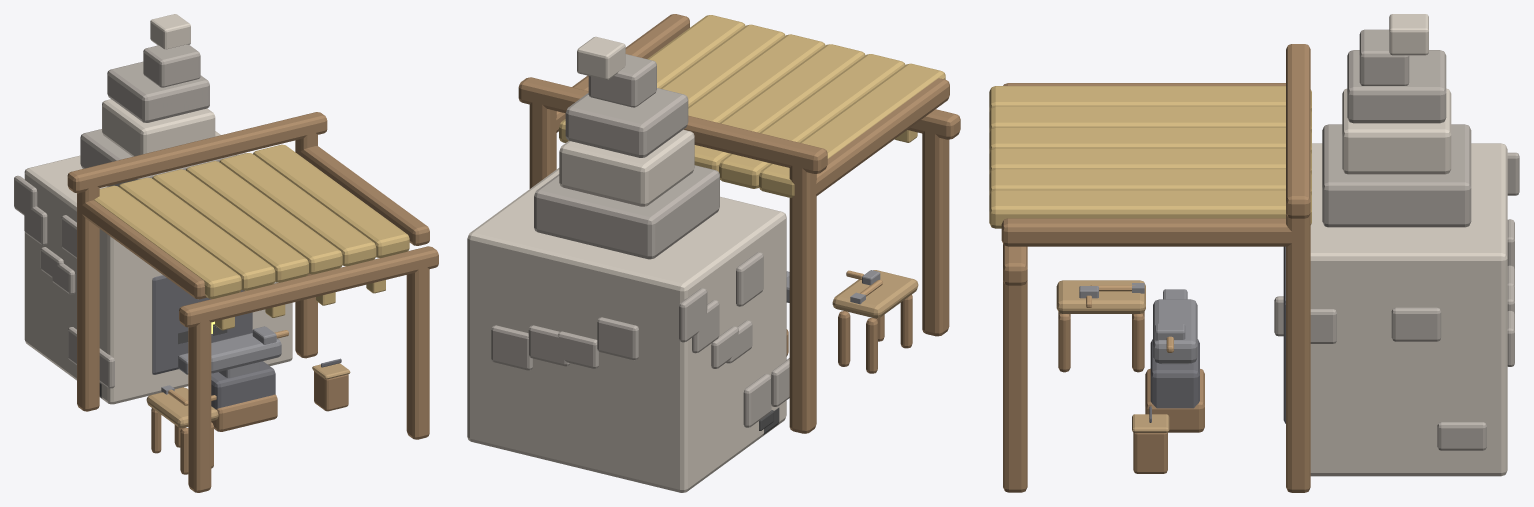
File: forge.glb
The picture shows the model from 3 angles, left to right: view 1: azimuth 30°, elevation 25°; view 2: azimuth 150°, elevation 25°; view 3: azimuth 270°, elevation 25°; orthographic projection. The views are drawn at different scales.
Parts seen in each view (by area): view 1: Furnace_Base, Beam_B, Beam_F, Thatch_1, Thatch_4, Thatch_2, Thatch_5, Thatch_3, Post_BL, Thatch_0, Post_FL, Post_FR (+19 smaller); view 2: Furnace_Base, Chimney_1, Post_BL, Chimney_2, Chimney_3, Post_FL, Thatch_1, Beam_B, Thatch_0, Thatch_2, Thatch_3, Beam_L (+22 smaller); view 3: Furnace_Base, Chimney_1, Thatch_5, Beam_R, Post_BR, Thatch_2, Thatch_3, Thatch_1, Thatch_4, Thatch_0, Chimney_2, Chimney_3 (+17 smaller).
Boxes of the visible parts, bbox=[...] form: Furnace_Base: bbox=[24, 131, 292, 404]; Beam_B: bbox=[67, 112, 327, 193]; Beam_F: bbox=[179, 246, 438, 327]; Thatch_1: bbox=[118, 177, 275, 290]; Thatch_4: bbox=[219, 153, 376, 266]; Thatch_2: bbox=[152, 169, 308, 282]; Thatch_5: bbox=[253, 144, 409, 257]; Thatch_3: bbox=[186, 161, 342, 274]; Post_BL: bbox=[77, 185, 99, 411]; Thatch_0: bbox=[94, 185, 241, 298]; Post_FL: bbox=[188, 320, 211, 492]; Post_FR: bbox=[406, 267, 429, 439]; Furnace_Base: bbox=[467, 168, 786, 492]; Chimney_1: bbox=[534, 165, 719, 259]; Post_BL: bbox=[789, 165, 816, 433]; Chimney_2: bbox=[559, 129, 694, 206]; Chimney_3: bbox=[565, 88, 688, 157]; Post_FL: bbox=[922, 130, 949, 336]; Thatch_1: bbox=[719, 54, 905, 188]; Beam_B: bbox=[518, 77, 827, 173]; Thatch_0: bbox=[759, 63, 945, 197]; Thatch_2: bbox=[694, 44, 865, 171]; Thatch_3: bbox=[688, 34, 825, 122]; Beam_L: bbox=[816, 78, 949, 195]; Furnace_Base: bbox=[1310, 143, 1507, 476]; Chimney_1: bbox=[1322, 124, 1471, 227]; Thatch_5: bbox=[989, 190, 1311, 228]; Beam_R: bbox=[1001, 218, 1293, 246]; Post_BR: bbox=[1286, 213, 1310, 492]; Thatch_2: bbox=[989, 127, 1311, 153]; Thatch_3: bbox=[989, 148, 1311, 174]; Thatch_1: bbox=[989, 107, 1311, 132]; Thatch_4: bbox=[989, 169, 1311, 195]; Thatch_0: bbox=[989, 86, 1311, 111]; Chimney_2: bbox=[1342, 88, 1451, 174]; Chimney_3: bbox=[1347, 50, 1446, 123].
Bounding box in the file's own units: 1.51 × 1.85 × 2.15.
